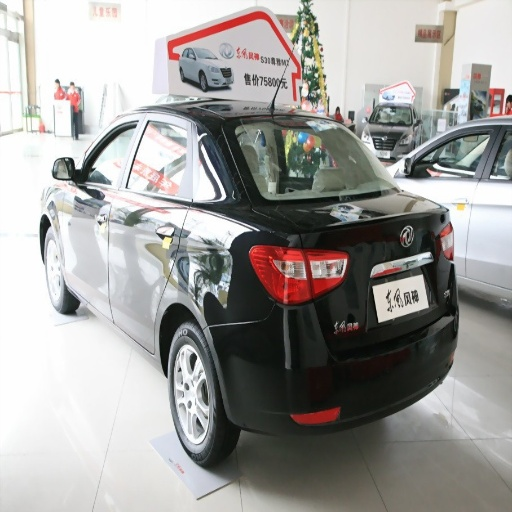back_bumper: (215, 289, 458, 436)
back_glass: (224, 116, 379, 195)
back_left_door: (110, 113, 199, 344)
